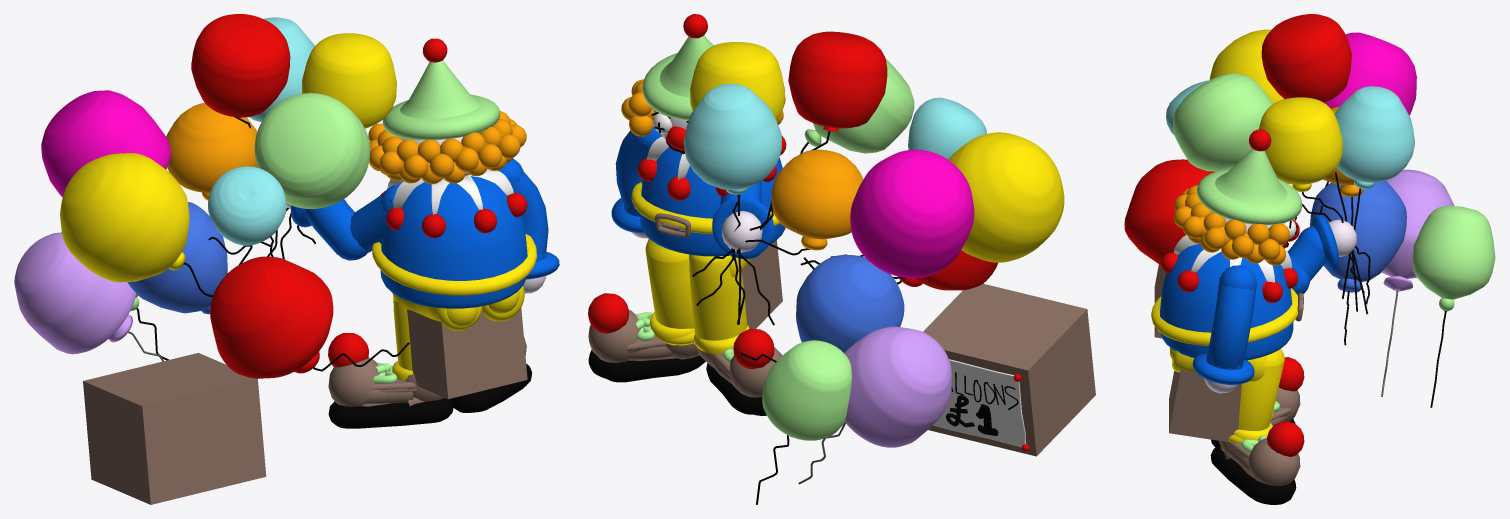
File: clownBalloons.glb
3 views of the same model, side by side, from view 1: azimuth 30°, elevation 25°; view 2: azimuth 150°, elevation 25°; view 3: azimuth 270°, elevation 25° (orthographic). The views are drawn at different scales.
Visible parts, largest first — view 1: Coco_the_Clownobjcleanergles; view 2: Coco_the_Clownobjcleanergles; view 3: Coco_the_Clownobjcleanergles.
Boxes of the visible parts, x1,y1,x2,y2 form: Coco_the_Clownobjcleanergles: (14, 14, 559, 504); Coco_the_Clownobjcleanergles: (588, 14, 1095, 504); Coco_the_Clownobjcleanergles: (1124, 14, 1495, 504).
Size of the model in its own units: 6.42 by 5.59 by 4.92.
